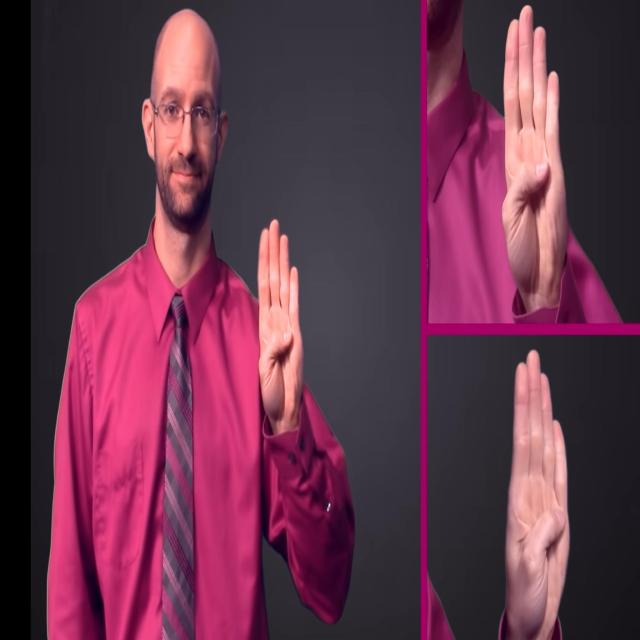B: (500, 0, 569, 307), (503, 346, 573, 640), (255, 215, 302, 427)
